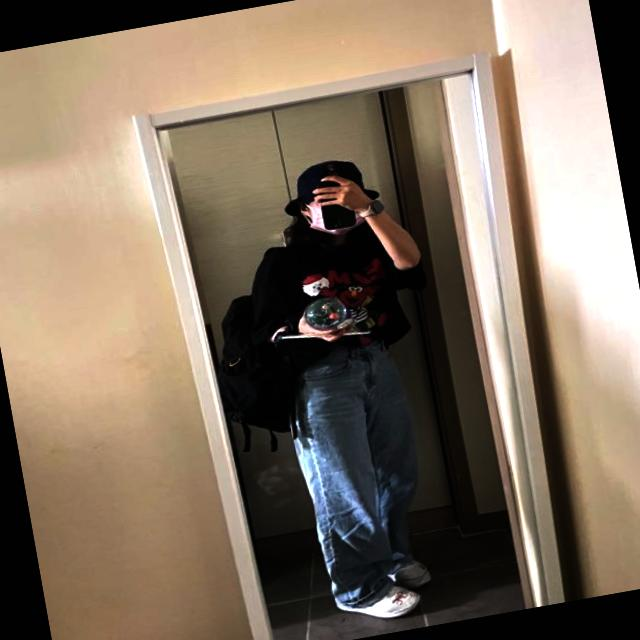denimpants: (278, 330, 438, 608)
shortsleeve: (235, 212, 430, 373)
